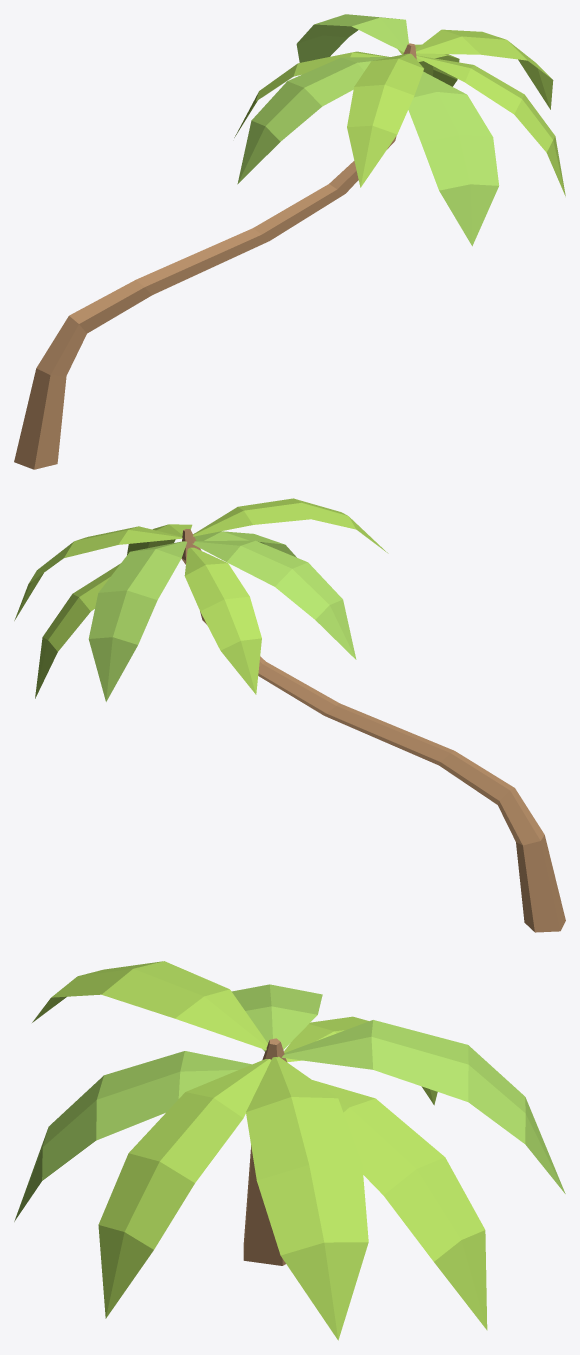
The model's file is Palm_Tree_OneSided_m_05_LOD.fbx.
3 views of the same model, one above another, from view 1: azimuth 30°, elevation 25°; view 2: azimuth 150°, elevation 25°; view 3: azimuth 270°, elevation 25° (orthographic). The views are drawn at different scales.
Visible parts, largest first — view 1: Palm_Tree_OneSided_m_05_LOD0; view 2: Palm_Tree_OneSided_m_05_LOD0; view 3: Palm_Tree_OneSided_m_05_LOD0.
Part boxes in pixels (x1,y1,x2,y2): Palm_Tree_OneSided_m_05_LOD0: (14, 14, 565, 469); Palm_Tree_OneSided_m_05_LOD0: (14, 498, 565, 932); Palm_Tree_OneSided_m_05_LOD0: (14, 961, 565, 1340).
Size of what is drawn, in the model's own units: 582 by 336 by 332.
